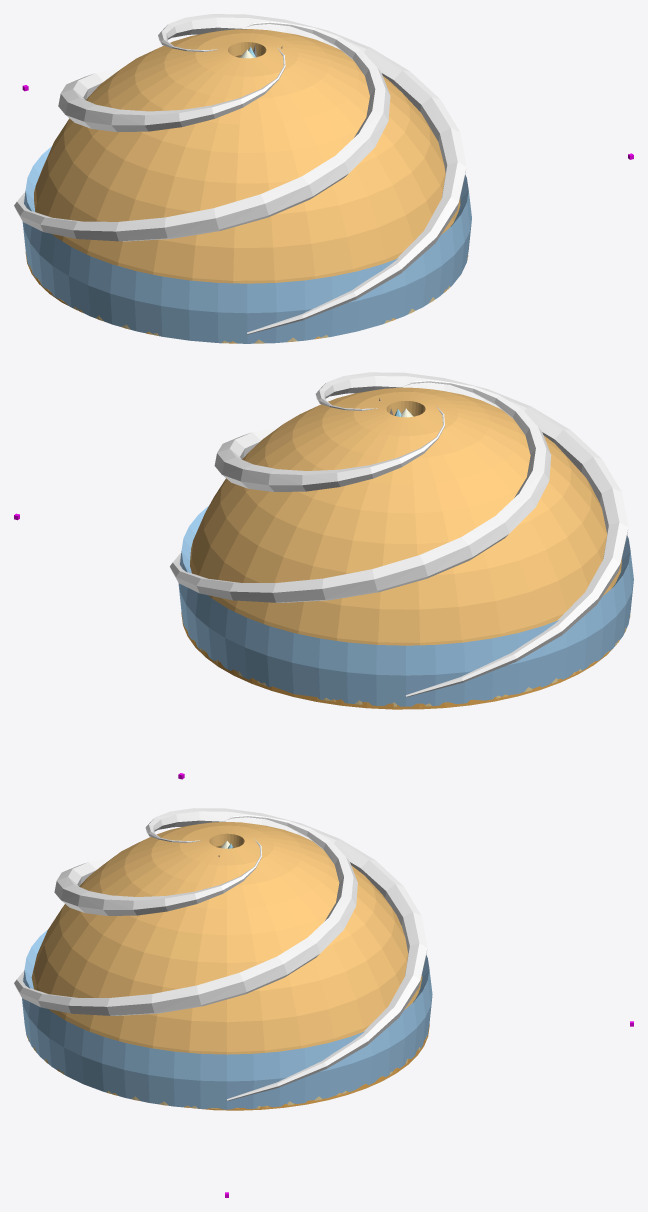
Rendered from boss_fx.fbx.
The picture shows the model from 3 angles, top to bottom: view 1: azimuth 30°, elevation 25°; view 2: azimuth 150°, elevation 25°; view 3: azimuth 270°, elevation 25°; orthographic projection. The views are drawn at different scales.
Parts seen in each view (by area): view 1: Dome_boss_fx, Band_boss_fx, Swirl_boss_fx; view 2: Dome_boss_fx, Band_boss_fx, Swirl_boss_fx, Slash_boss_fx; view 3: Dome_boss_fx, Band_boss_fx, Swirl_boss_fx, Slash_boss_fx.
Boxes of the visible parts, <box> form: Dome_boss_fx: <box>34,29,468,343</box>; Band_boss_fx: <box>22,146,471,343</box>; Swirl_boss_fx: <box>14,14,466,334</box>; Dome_boss_fx: <box>182,387,621,706</box>; Band_boss_fx: <box>178,506,633,706</box>; Swirl_boss_fx: <box>170,372,628,697</box>; Slash_boss_fx: <box>181,612,616,709</box>; Dome_boss_fx: <box>28,822,425,1107</box>; Band_boss_fx: <box>22,929,432,1109</box>; Swirl_boss_fx: <box>14,808,427,1100</box>; Slash_boss_fx: <box>194,1024,429,1110</box>.
Bounding box in the file's own units: 30.42 × 11.9 × 30.62.
